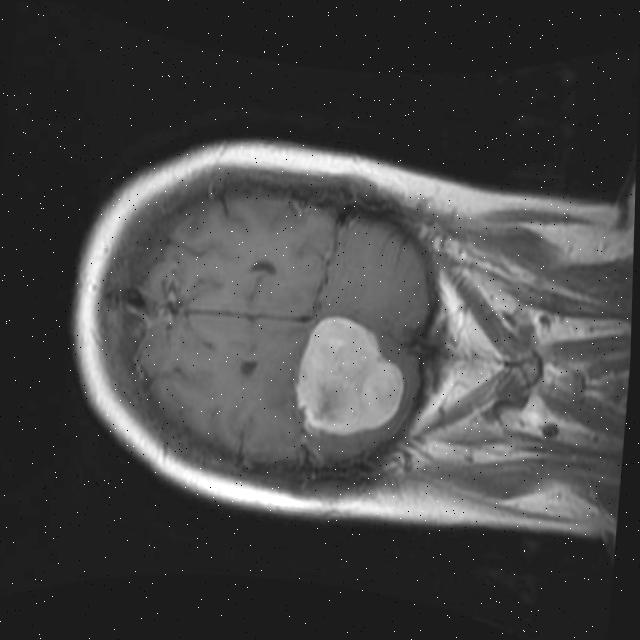Meningioma: (290, 310, 410, 444)
